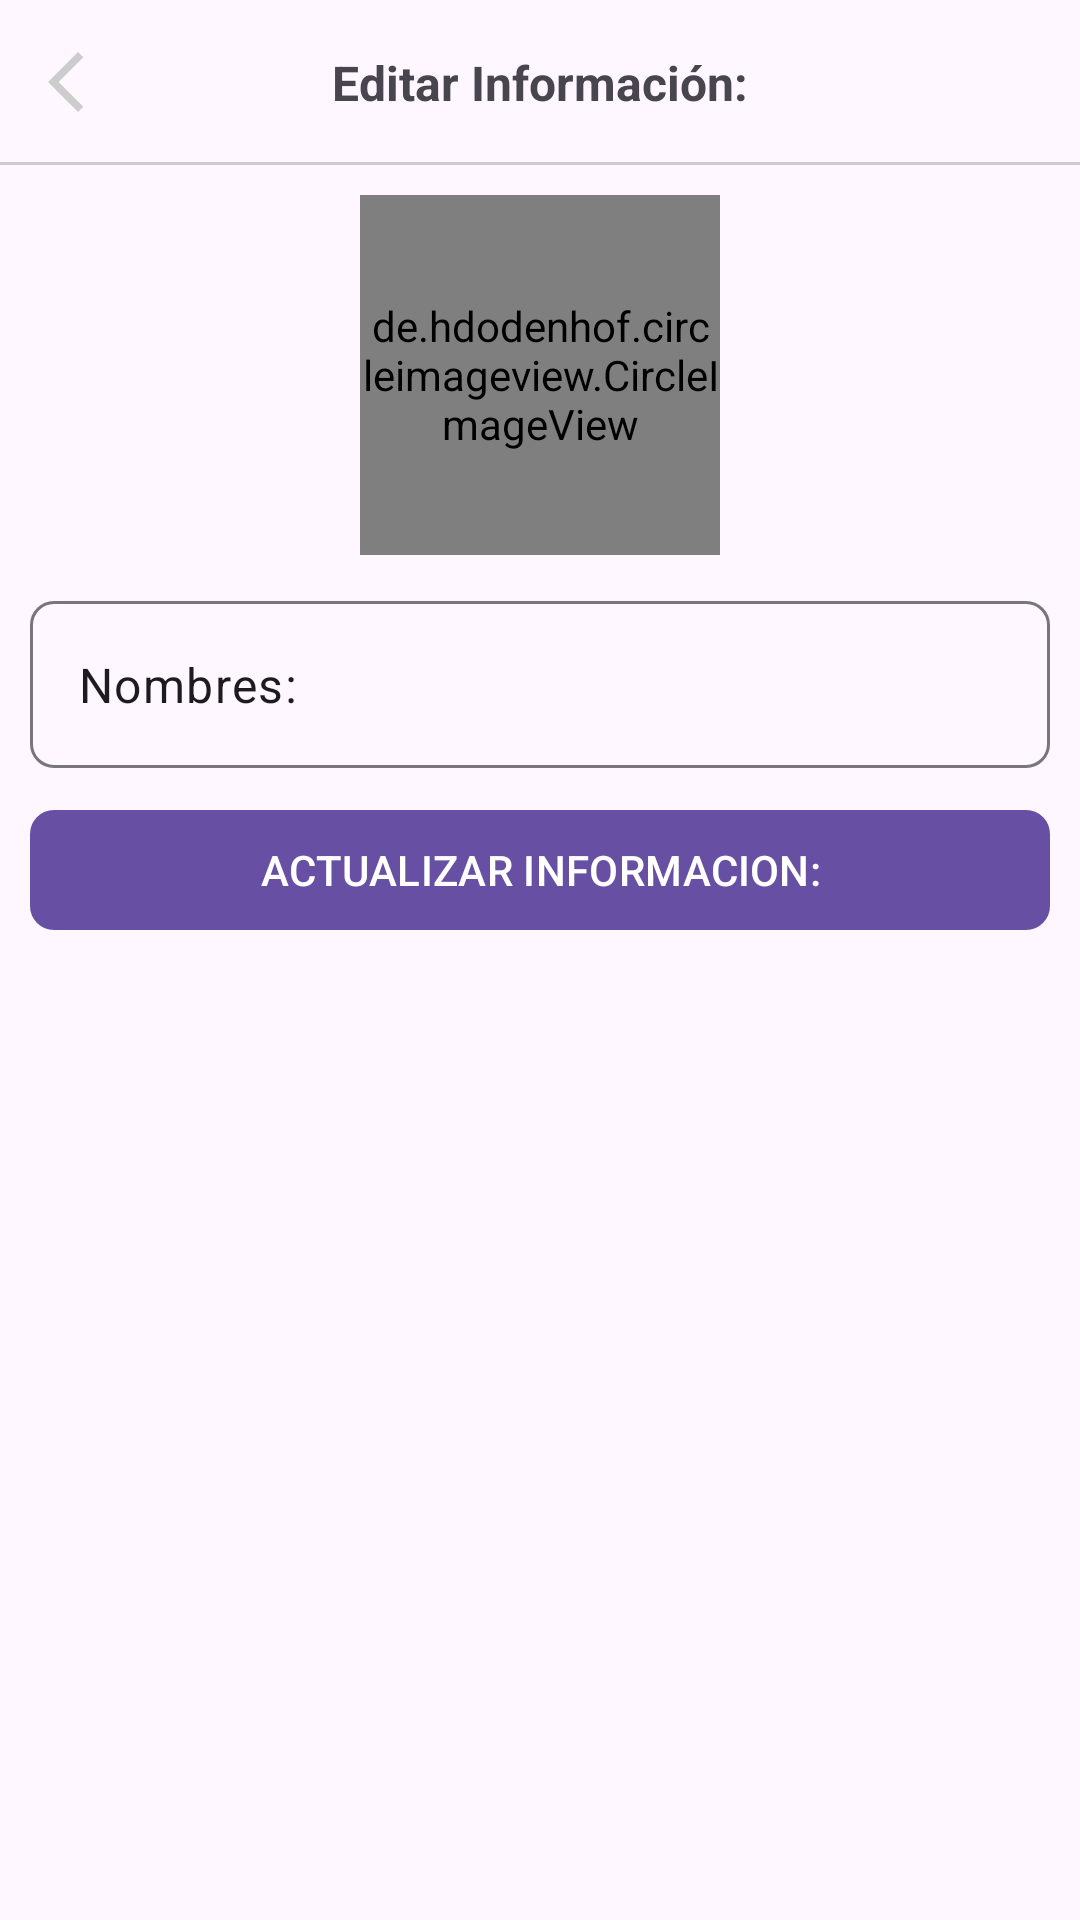

Screen size 1080 x 1920. Icon name, then its box in pixels as (x1, y1, x2, y2):
regresar: (48, 52, 83, 112)
